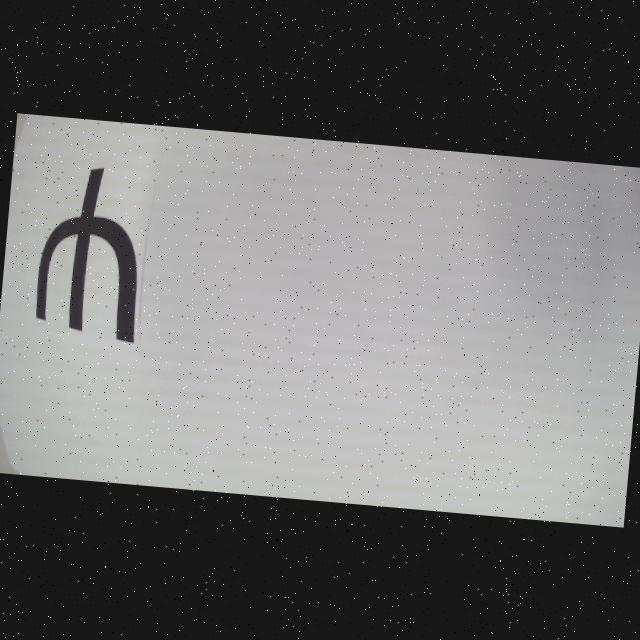PSI: (32, 162, 150, 344)
